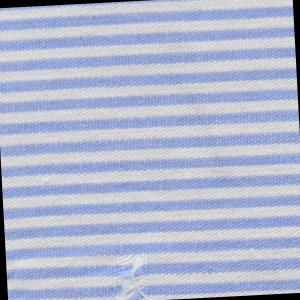Damage: (106, 249, 166, 300)
